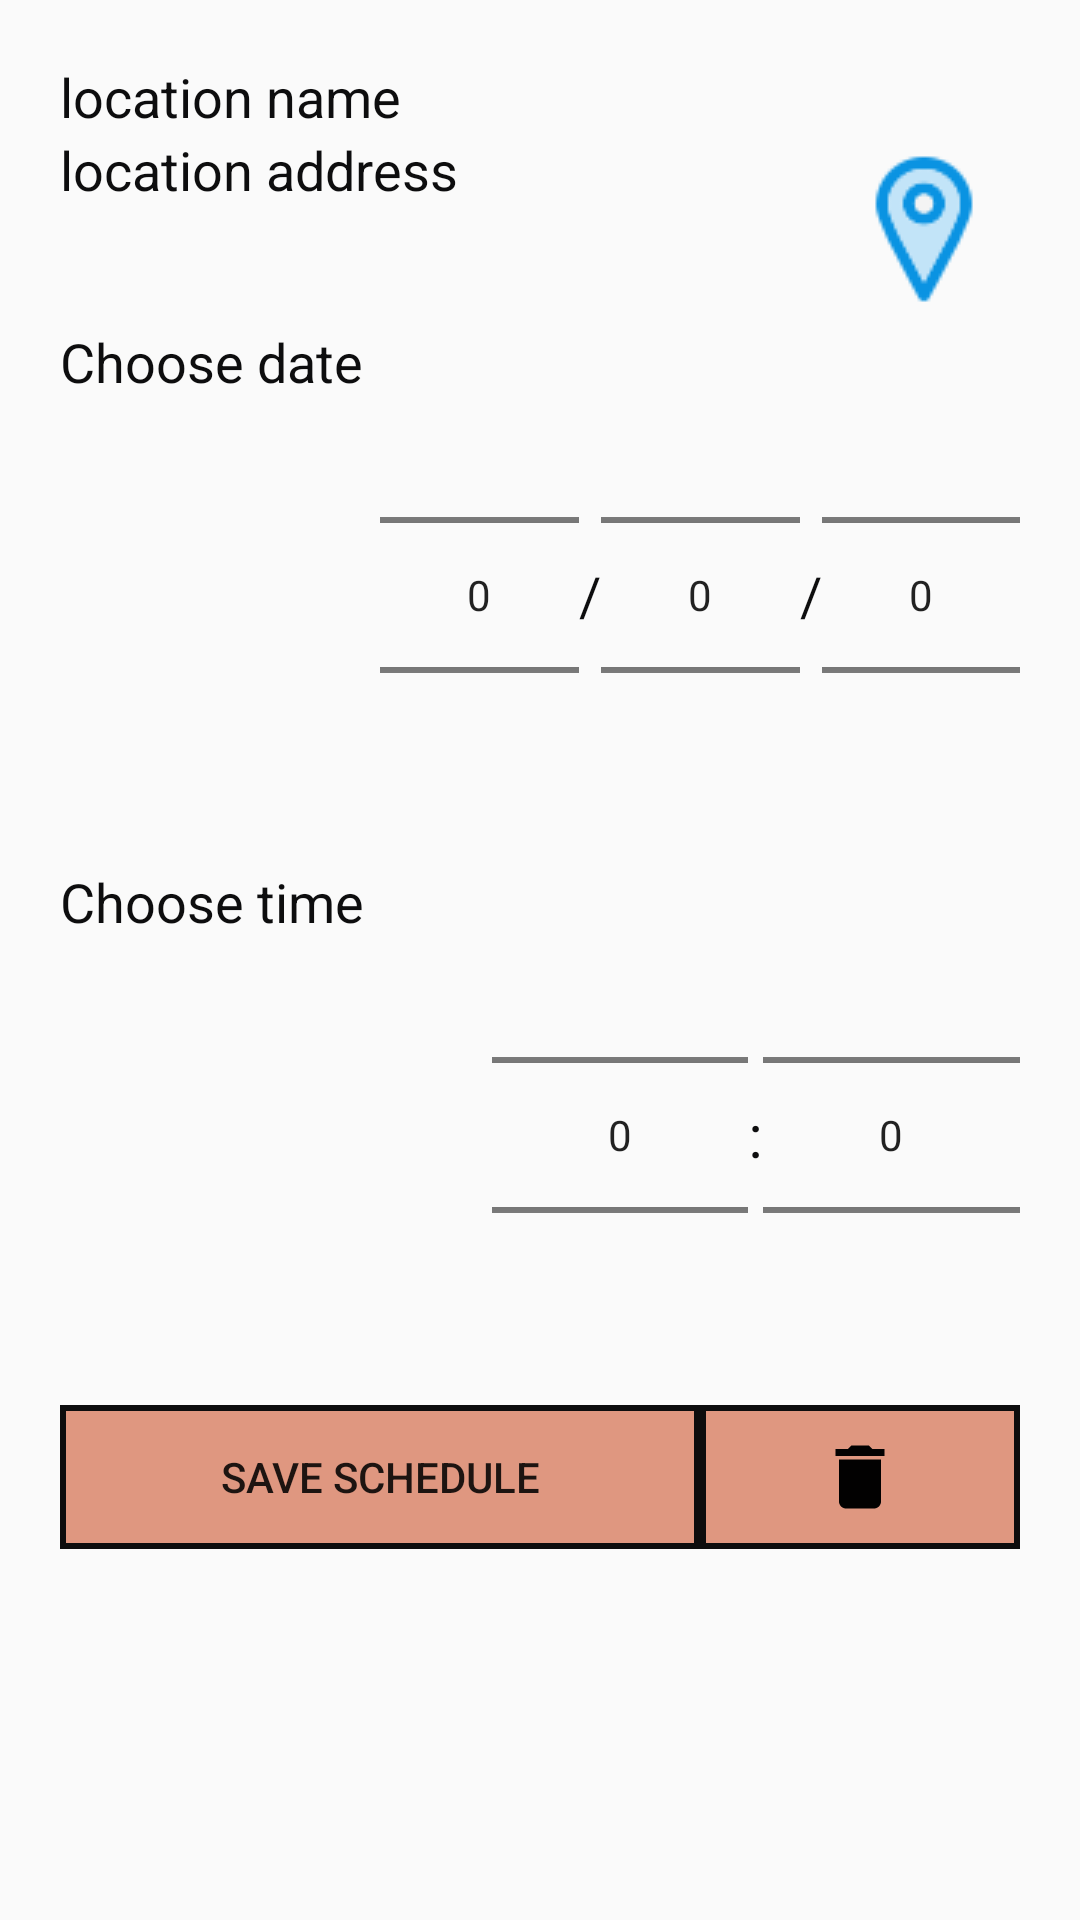

Icons on this 1080x1920 Android screen, each with its box as (x1, y1, x2, y2):
delete: (700, 1405, 1020, 1549)
